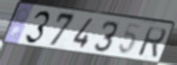3: (23, 10, 52, 45), (94, 20, 120, 53)
4: (71, 17, 95, 50)
5: (117, 22, 144, 57)
7: (47, 11, 76, 48)
R: (136, 26, 168, 60)
